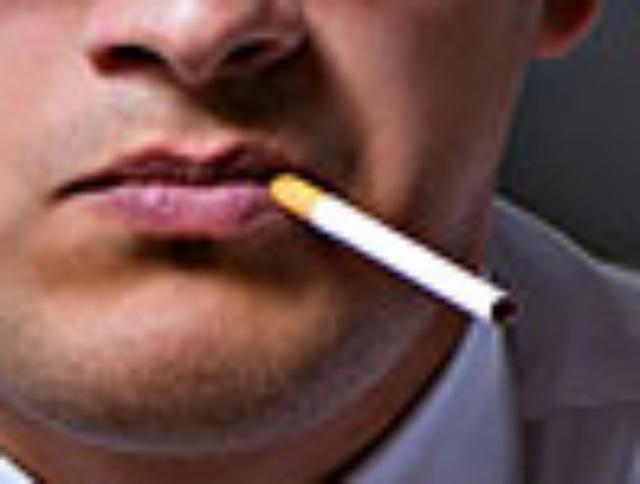Smoking: (264, 168, 522, 330)
